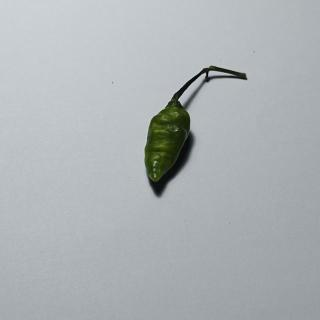Cabai Hijau: (138, 62, 250, 196)
